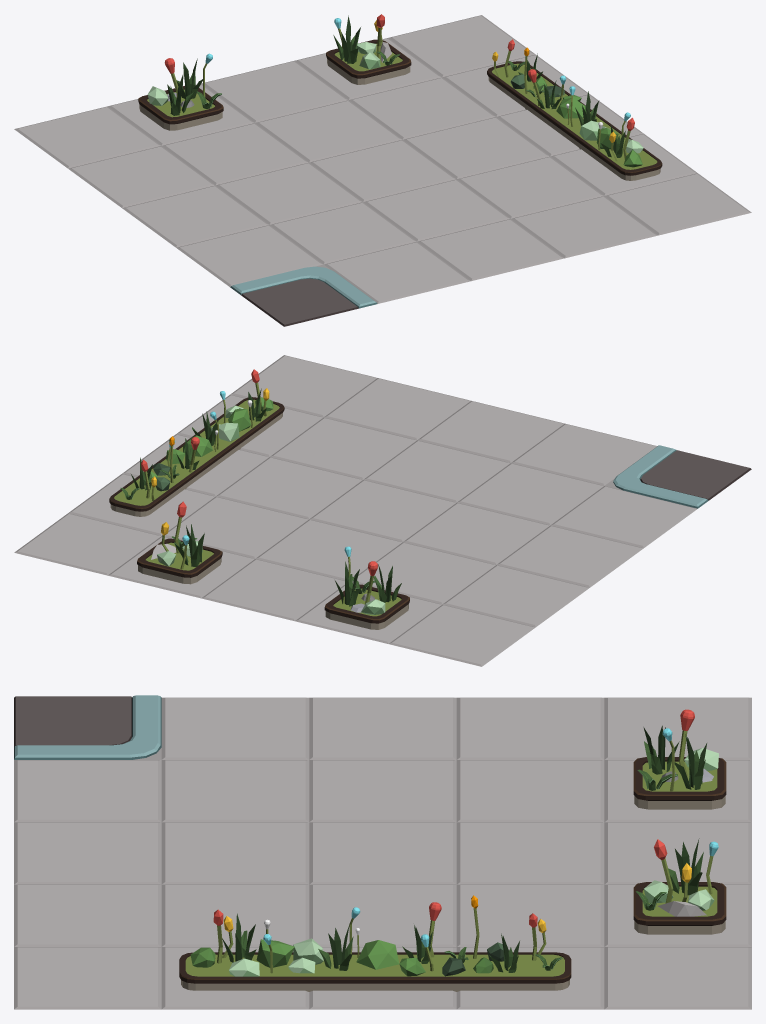
File: OpenFork_D.glb
3 views of the same model, one above another, from view 1: azimuth 30°, elevation 25°; view 2: azimuth 150°, elevation 25°; view 3: azimuth 270°, elevation 25° (orthographic). The views are drawn at different scales.
Visible parts, largest first — view 1: OpenFork_D, Cube.235, Cube.244, Cube.243, Grass_03.575; view 2: OpenFork_D, Cube.235, Cube.243, Cube.244; view 3: OpenFork_D, Cube.235, Cube.244, Cube.243, Tree_03.1416, Grass_03.575, Grass_03.577, Grass_03.558, Tree_03.1410, Grass_03.576, Grass_03.557, Flower03.1690 (+3 smaller).
Part boxes in pixels (x1,y1,x2,y2): OpenFork_D: [14, 15, 751, 326]; Cube.235: [487, 61, 662, 180]; Cube.244: [138, 86, 223, 130]; Cube.243: [326, 39, 411, 84]; Grass_03.575: [333, 15, 360, 63]; OpenFork_D: [14, 355, 751, 666]; Cube.235: [109, 397, 284, 516]; Cube.243: [137, 538, 222, 584]; Cube.244: [324, 584, 409, 629]; OpenFork_D: [14, 695, 751, 1009]; Cube.235: [179, 952, 571, 991]; Cube.244: [633, 757, 726, 809]; Cube.243: [633, 882, 726, 934]; Tree_03.1416: [356, 940, 399, 969]; Grass_03.575: [668, 838, 703, 895]; Grass_03.577: [674, 734, 706, 789]; Grass_03.558: [318, 925, 353, 970]; Tree_03.1410: [256, 939, 294, 967]; Grass_03.576: [643, 725, 679, 774]; Grass_03.557: [222, 913, 256, 962]; Flower03.1690: [654, 839, 691, 903].
Size of what is drawn, in the model's own units: 16 by 2.05 by 16.
1 material, 1 textured.
